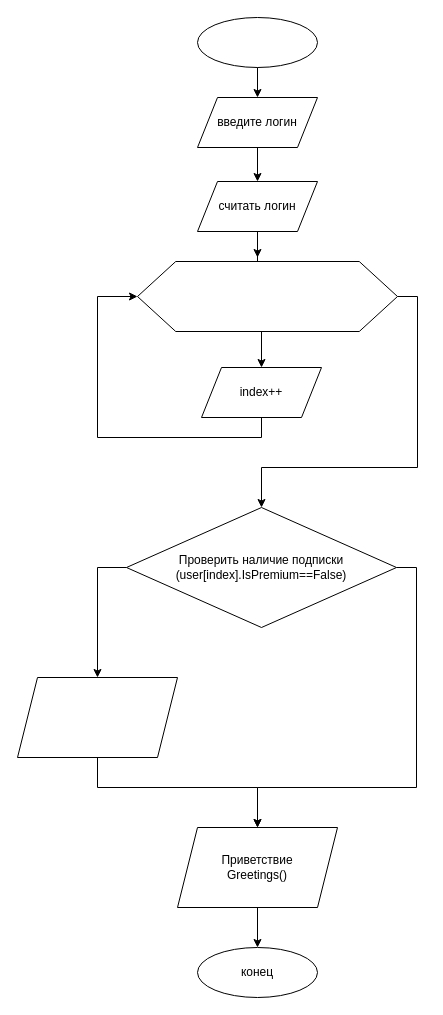
Some shapes in this 443 by 1015 pixel diagram are drawn without their labels. The centre of each missing label's shape, as x and y in pixels:
"начало" belongs at point (257, 42).
"Показать рекламу ShowAds()" belongs at point (97, 717).
"получаем индекс пользователя в массиве user user[index].Login != login" belongs at point (267, 296).
